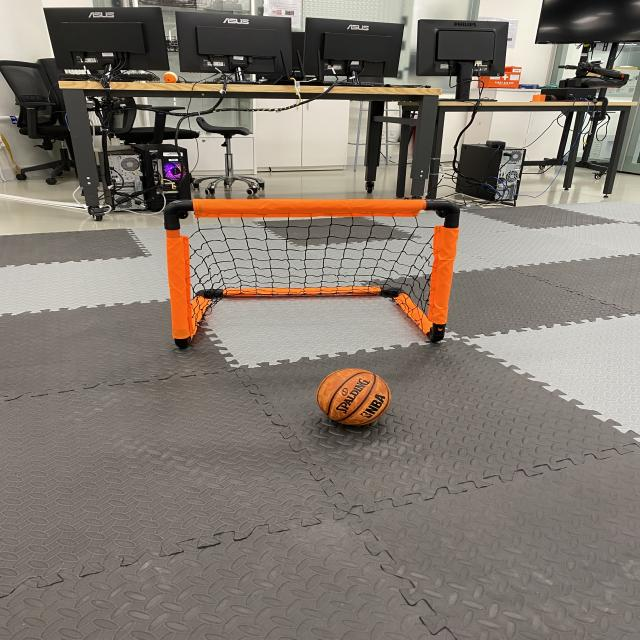ball: (311, 365, 397, 432)
gate: (158, 193, 469, 356)
